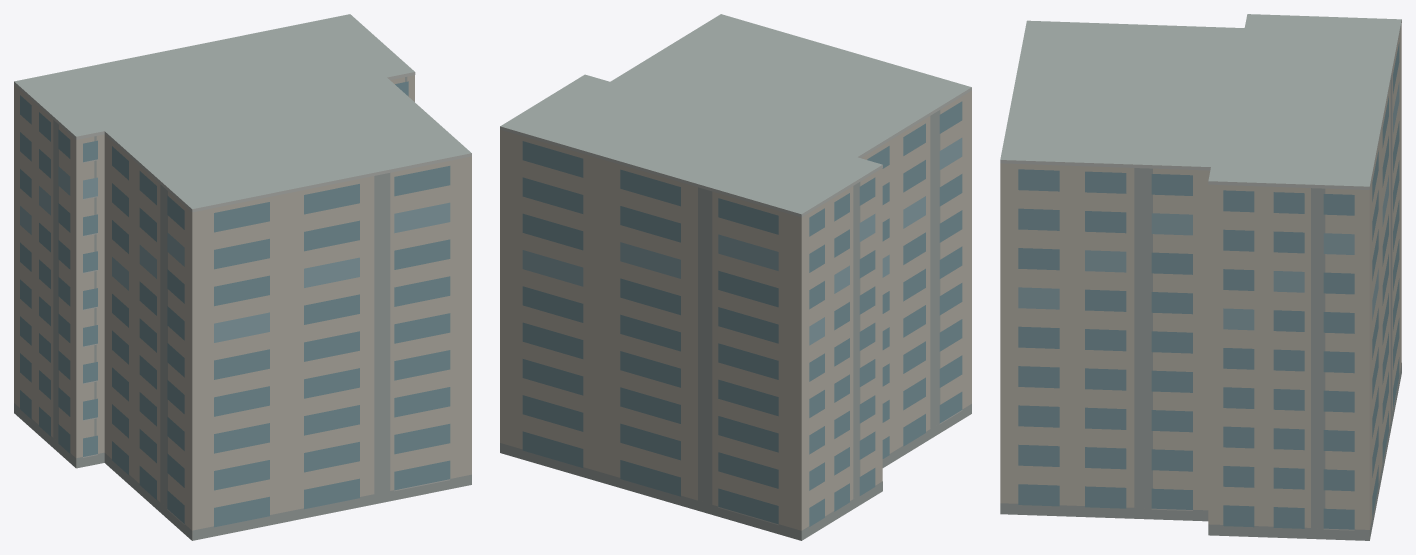
File: residential-1ed63900-c47b-4865-b45a-d839a2123d7c.glb
3 views of the same model, side by side, from view 1: azimuth 30°, elevation 25°; view 2: azimuth 150°, elevation 25°; view 3: azimuth 270°, elevation 25° (orthographic). The views are drawn at different scales.
Parts seen in each view (by area): view 1: residential-1ed63900-c47b-4865-b45a-d839a2123d7c.tmp; view 2: residential-1ed63900-c47b-4865-b45a-d839a2123d7c.tmp; view 3: residential-1ed63900-c47b-4865-b45a-d839a2123d7c.tmp.
Part boxes in pixels (box(x1,y1,x2,y2)): residential-1ed63900-c47b-4865-b45a-d839a2123d7c.tmp: box(14, 14, 471, 540); residential-1ed63900-c47b-4865-b45a-d839a2123d7c.tmp: box(500, 14, 971, 540); residential-1ed63900-c47b-4865-b45a-d839a2123d7c.tmp: box(1000, 14, 1401, 540).
Bounding box in the file's own units: 26.14 × 25 × 25.69.
